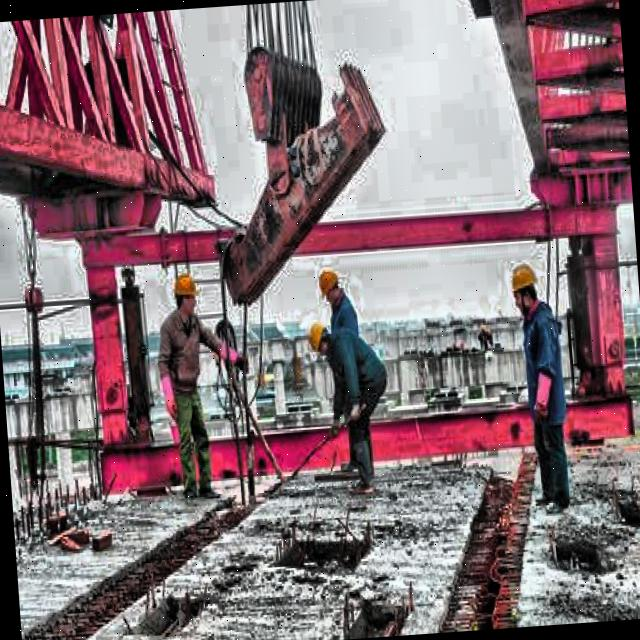helmet: (506, 256, 542, 318), (168, 268, 200, 316), (300, 314, 332, 359), (315, 266, 346, 306)
